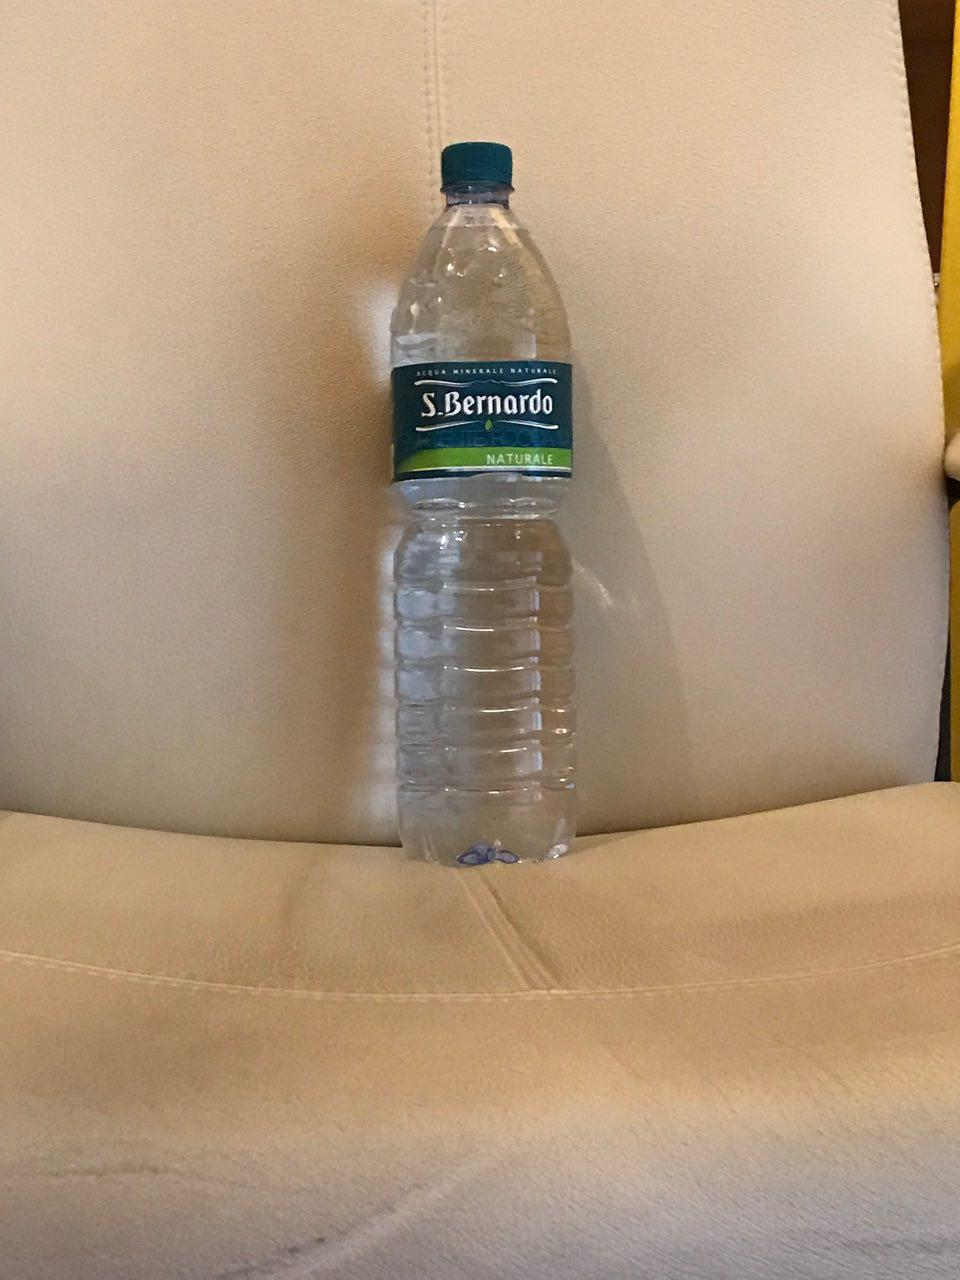san_bernardo: (389, 142, 577, 869)
